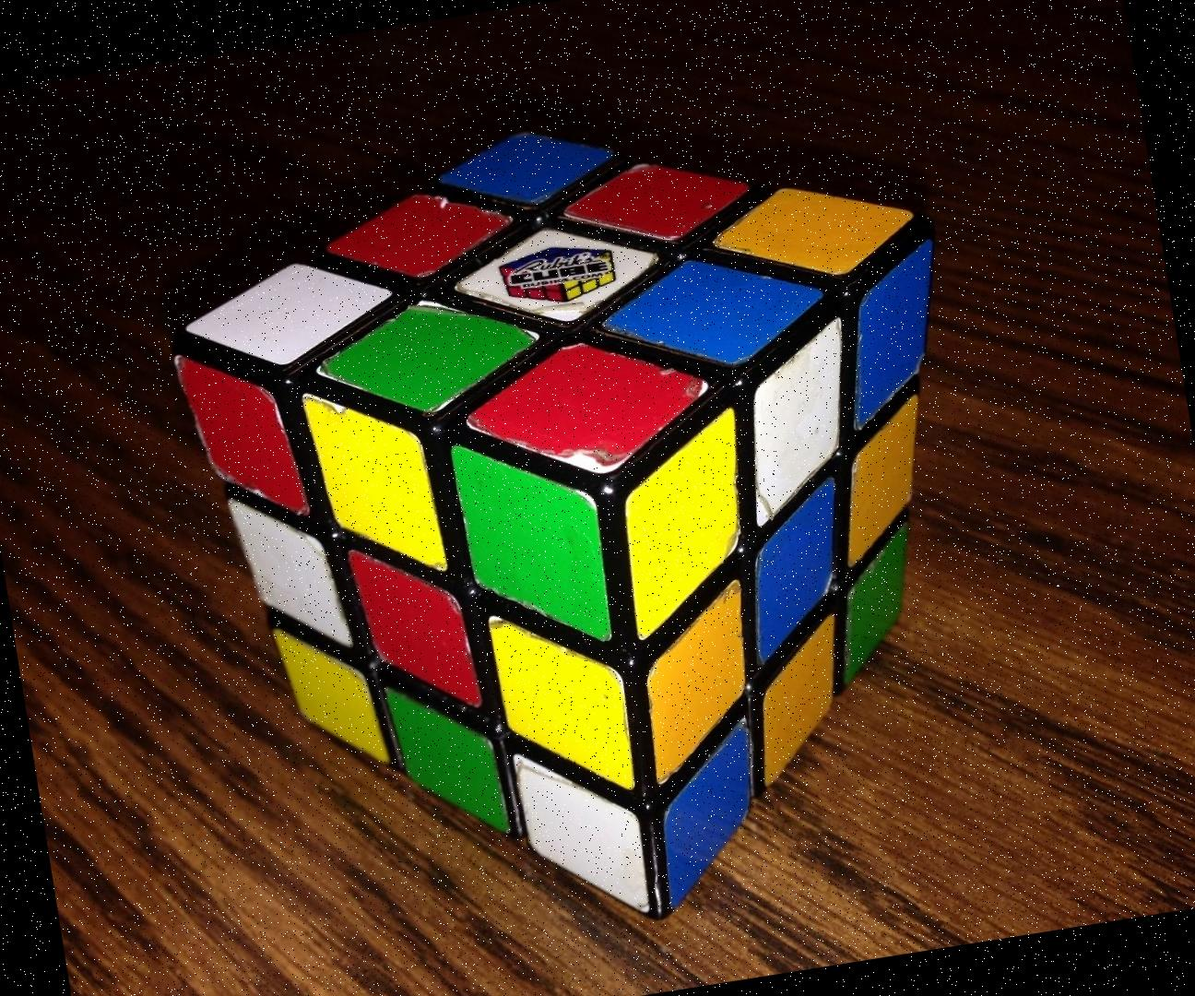rubiks_cube: (177, 131, 933, 907)
